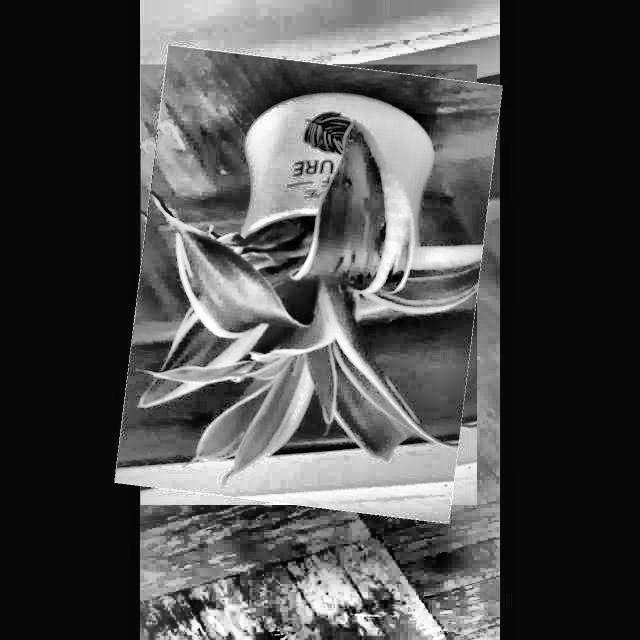plants: (127, 54, 490, 514)
